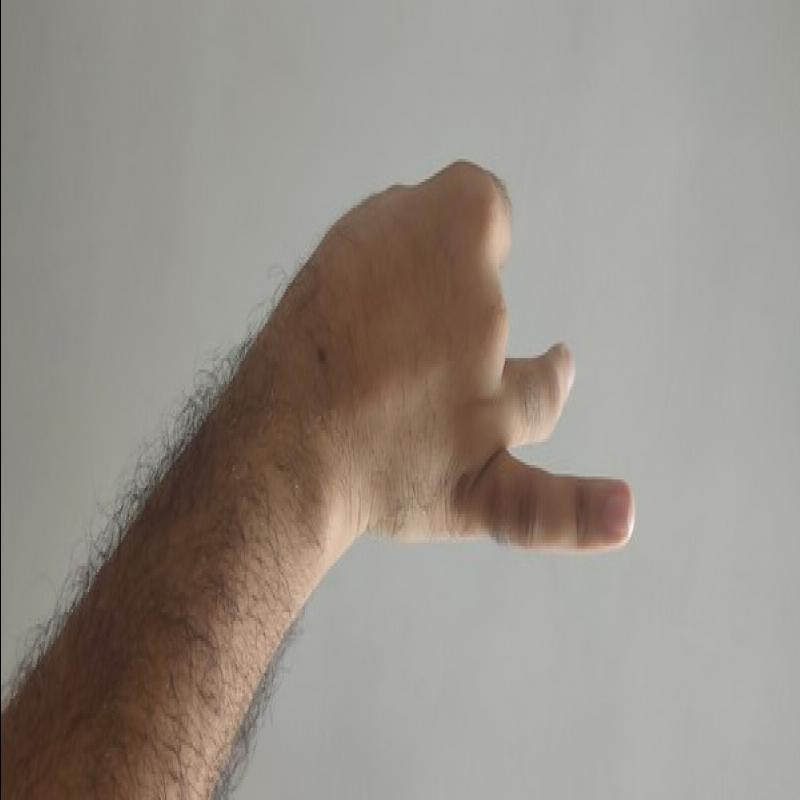Katakam: (299, 138, 655, 571)
